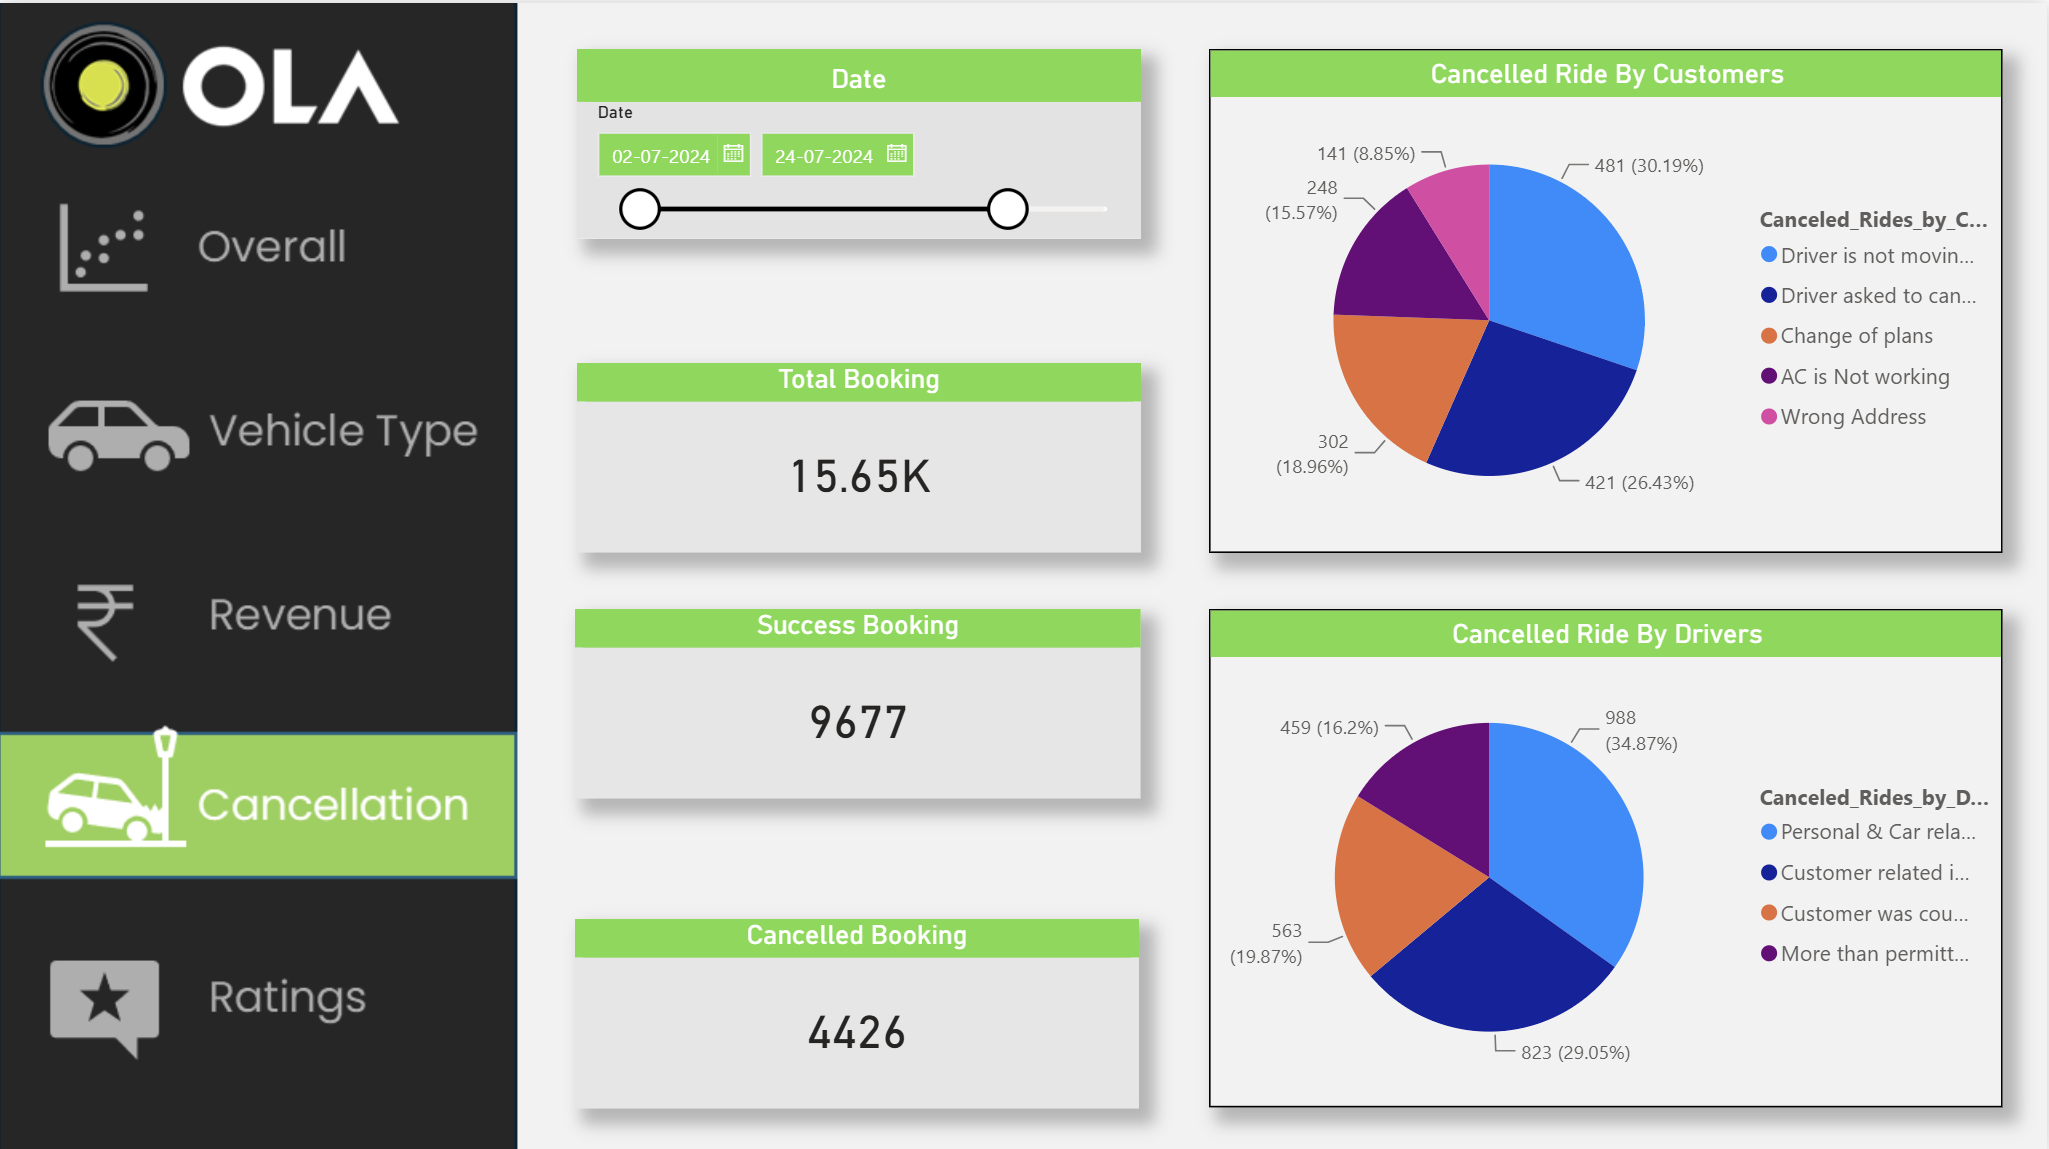

This screenshot's page, from the dashboard's own definition file:
{"tool":"powerbi","page":{"name":"cancellation","canvas":[1280,720],"ordinal":3},"visuals":[{"type":"actionButton","box":[0,209.6,323.3,91.4],"z":0},{"type":"actionButton","box":[0,332,323,92.7],"z":1000},{"type":"actionButton","box":[0,580.2,323,92.7],"z":2000},{"type":"actionButton","box":[0,104.7,323,83.7],"z":3000},{"type":"pieChart","title":"Cancelled Ride By Customers","fields":{"Category":["July.Canceled_Rides_by_Customer"],"Y":["CountNonNull(July.Canceled_Rides_by_Customer)"]},"box":[756.6,28.3,496.2,315.1],"z":4000},{"type":"pieChart","title":"Cancelled Ride By Drivers","fields":{"Category":["July.Canceled_Rides_by_Driver"],"Y":["CountNonNull(July.Canceled_Rides_by_Driver)"]},"box":[756.6,379.2,496.2,311.3],"z":5000},{"type":"slicer","title":"Date","fields":{"Values":["July.Date"]},"box":[361.7,28.4,352.6,118.3],"z":6000},{"type":"card","title":"Total Booking","fields":{"Values":["CountNonNull(July.Booking_ID)"]},"box":[361.7,225.2,352.6,118.3],"z":7000},{"type":"card","title":"Success Booking","fields":{"Values":["CountNonNull(July.Booking_ID)"]},"box":[360.6,378.8,353.7,118.3],"z":8000},{"type":"card","title":"Cancelled Booking","fields":{"Values":["CountNonNull(July.Booking_ID)"]},"box":[360.6,572.1,352.6,118.3],"z":9000}]}

Visuals, with their boxes in screenshot pixels (x1, y1, x2, y2), scaled from the page's 1280x720 canvas onto the 2049x1149 screenshot:
actionButton: Rect(0, 334, 518, 480)
actionButton: Rect(0, 530, 517, 678)
actionButton: Rect(0, 926, 517, 1074)
actionButton: Rect(0, 167, 517, 301)
"Cancelled Ride By Customers" pieChart: Rect(1211, 45, 2005, 548)
"Cancelled Ride By Drivers" pieChart: Rect(1211, 605, 2005, 1102)
"Date" slicer: Rect(579, 45, 1143, 234)
"Total Booking" card: Rect(579, 359, 1143, 548)
"Success Booking" card: Rect(577, 605, 1143, 793)
"Cancelled Booking" card: Rect(577, 913, 1142, 1102)
